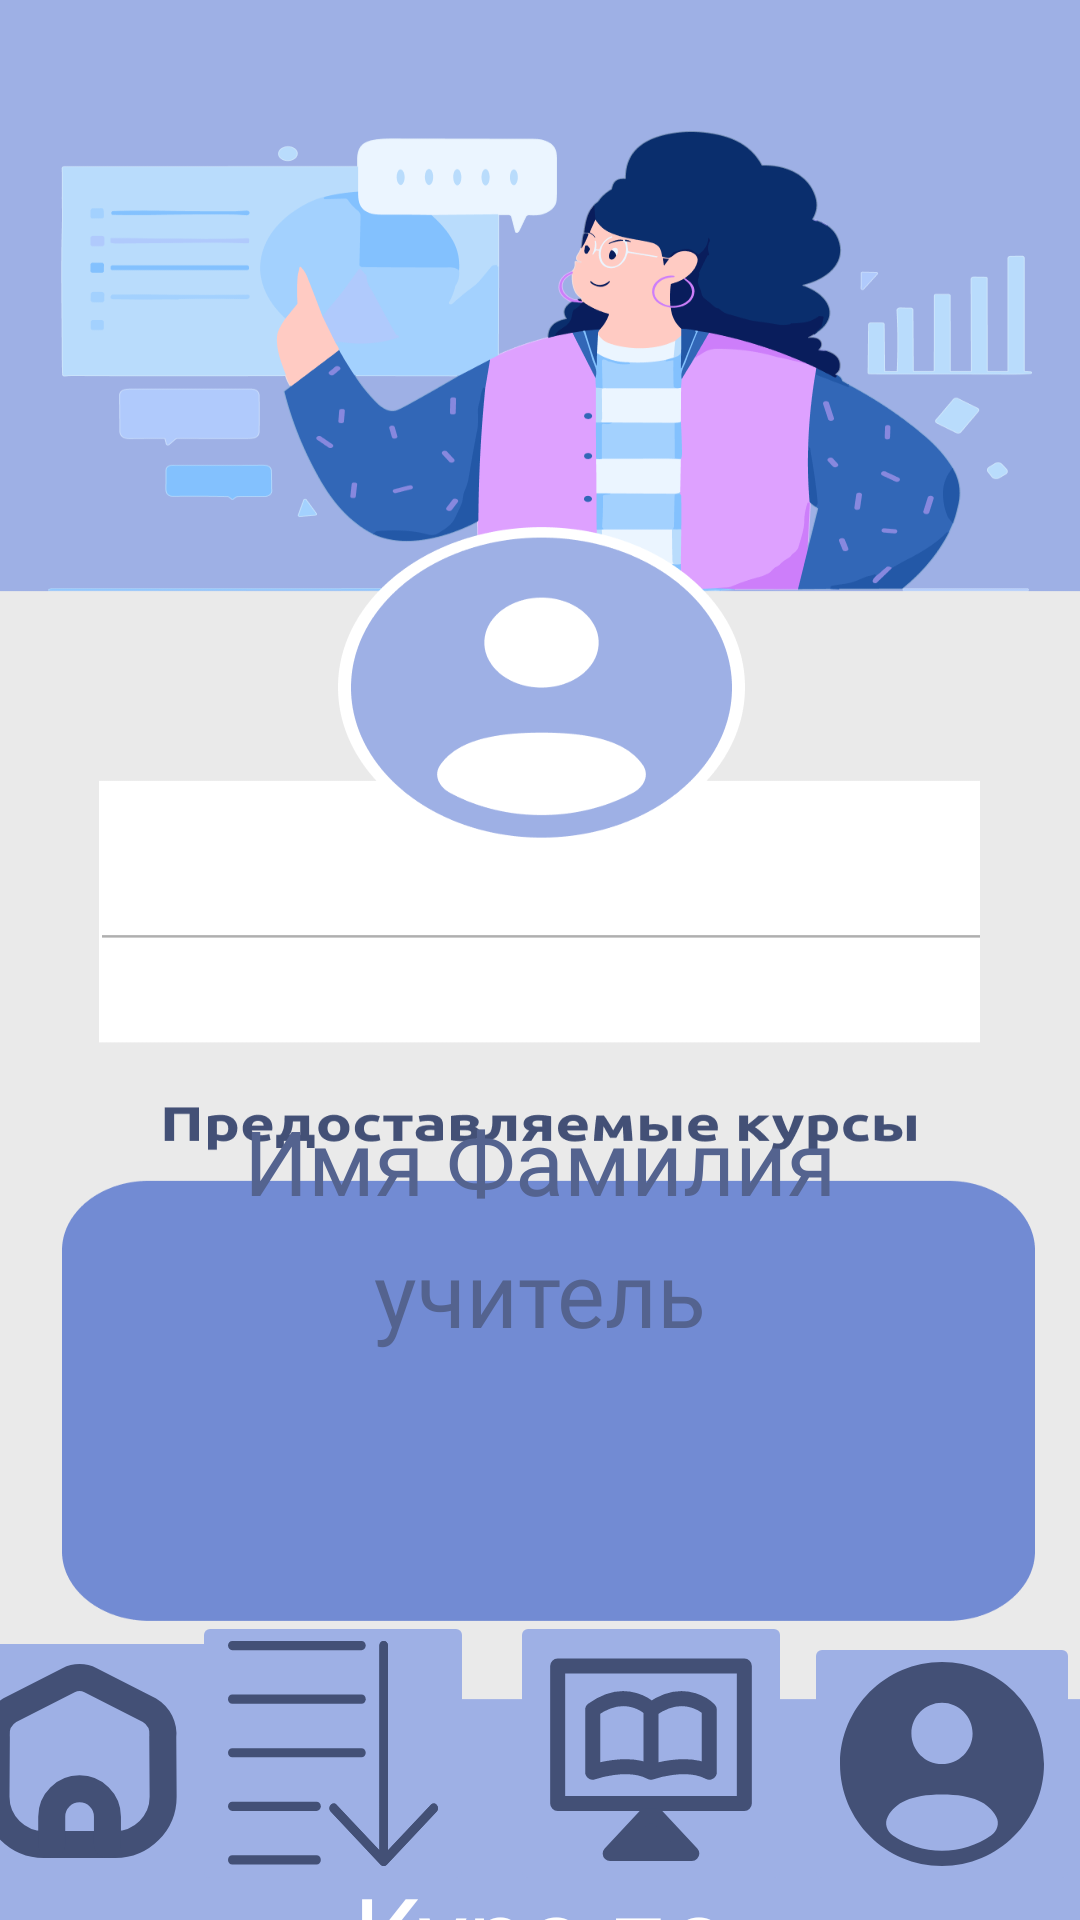

Point at icon controls on the screen. Image size 1080px x 1920px, points as [x,y].
course: [651,1753]
user: [942,1764]
